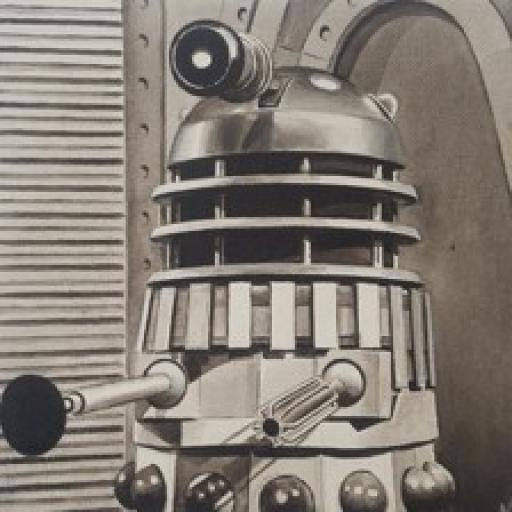dalek: (0, 16, 464, 512)
